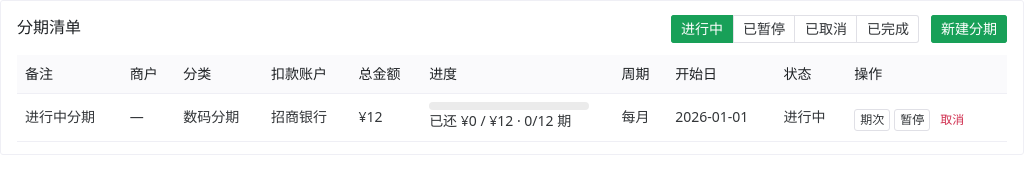
InstallmentsPane 清单渲染冒烟（编排用例见 useScheduledPlanList.test.ts） › 默认只显示进行中（active）的分期，可切换过滤（默认过滤归模块，此处验渲染）
Expected: the text "已暂停分期" is not shown
Step 1. Click the button with test id "filter-paused" → (764, 29), box [733,15,795,43]
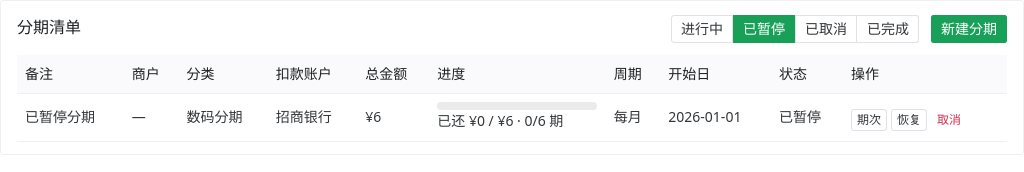
Expected: the text "已暂停分期" is shown, [17,94,124,142]
Expected: the text "进行中分期" is gone
